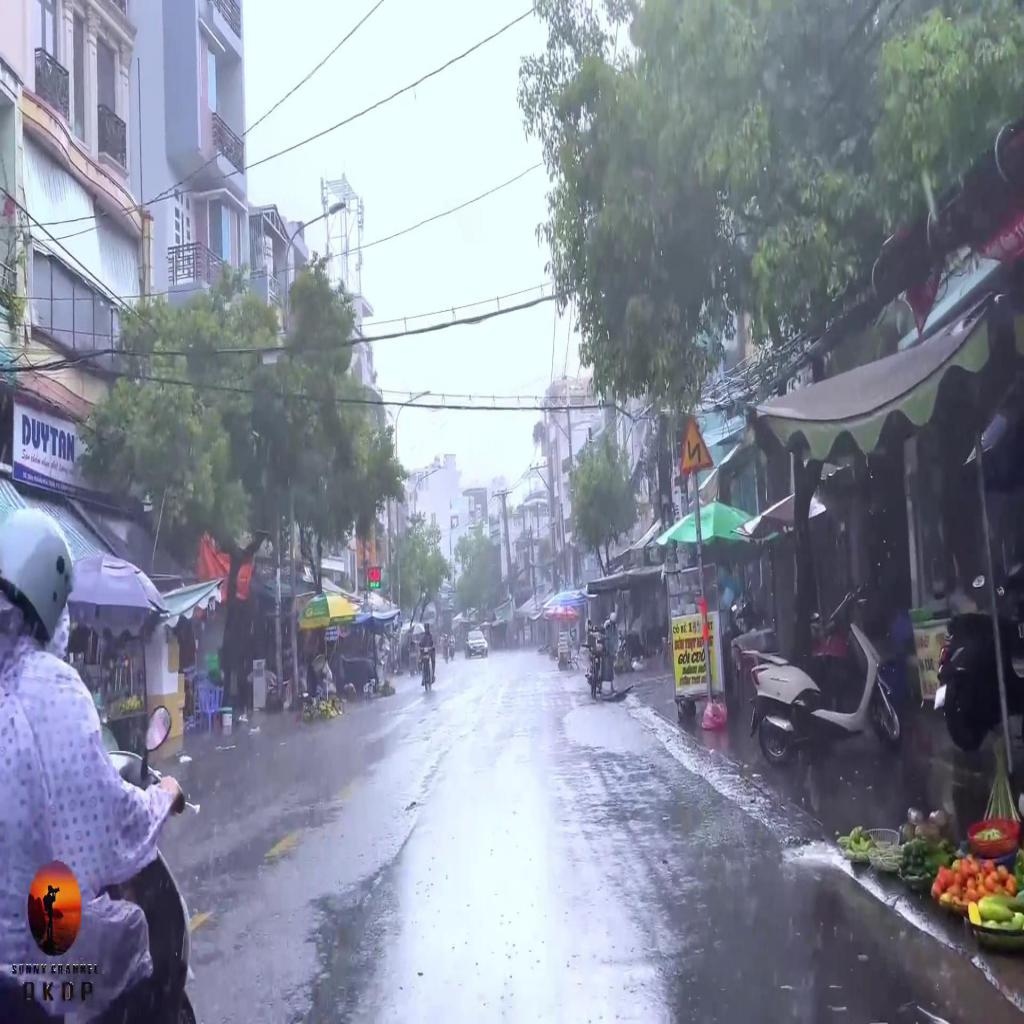cho_ngoat_nguy_hiem_lien_tiep: (677, 410, 716, 477)
